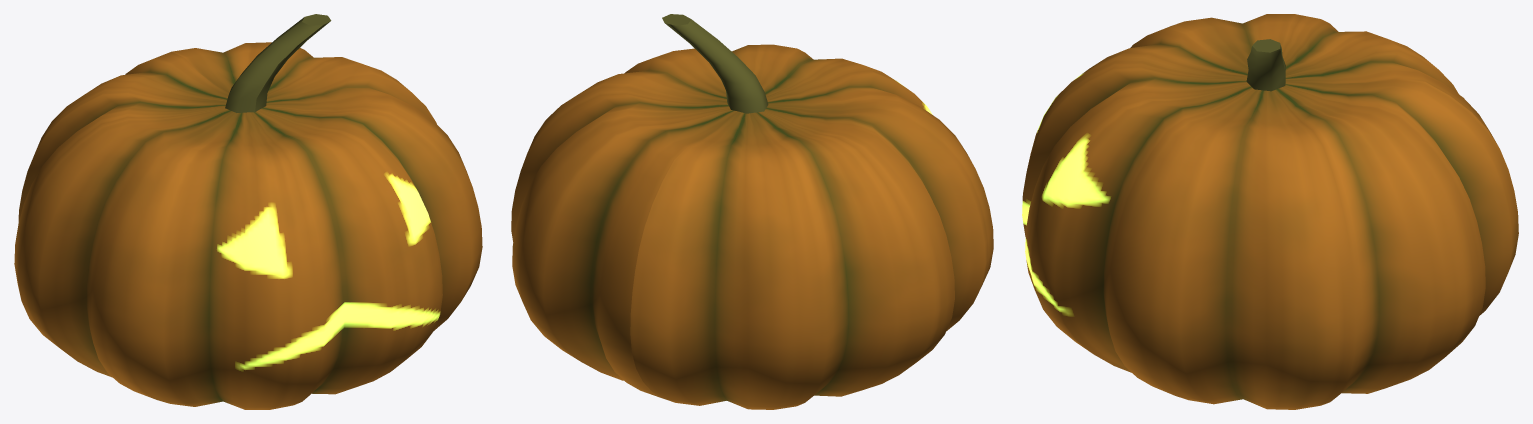
Rendered from rotten.glb.
3 views of the same model, side by side, from view 1: azimuth 30°, elevation 25°; view 2: azimuth 150°, elevation 25°; view 3: azimuth 270°, elevation 25° (orthographic). The views are drawn at different scales.
Parts seen in each view (by area): view 1: body, stem; view 2: body, stem; view 3: body, stem.
Part boxes in pixels (x1,y1,x2,y2): body: (14, 42, 482, 409); stem: (225, 14, 331, 112); body: (511, 44, 993, 409); stem: (662, 14, 768, 113); body: (1022, 14, 1518, 409); stem: (1246, 39, 1285, 91).
Bounding box in the file's own units: 1.74 × 1.27 × 1.69.
2 materials, 1 textured.
